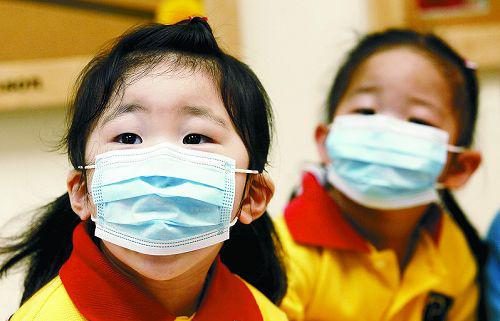OK: (91, 93, 244, 248), (327, 80, 454, 212)
